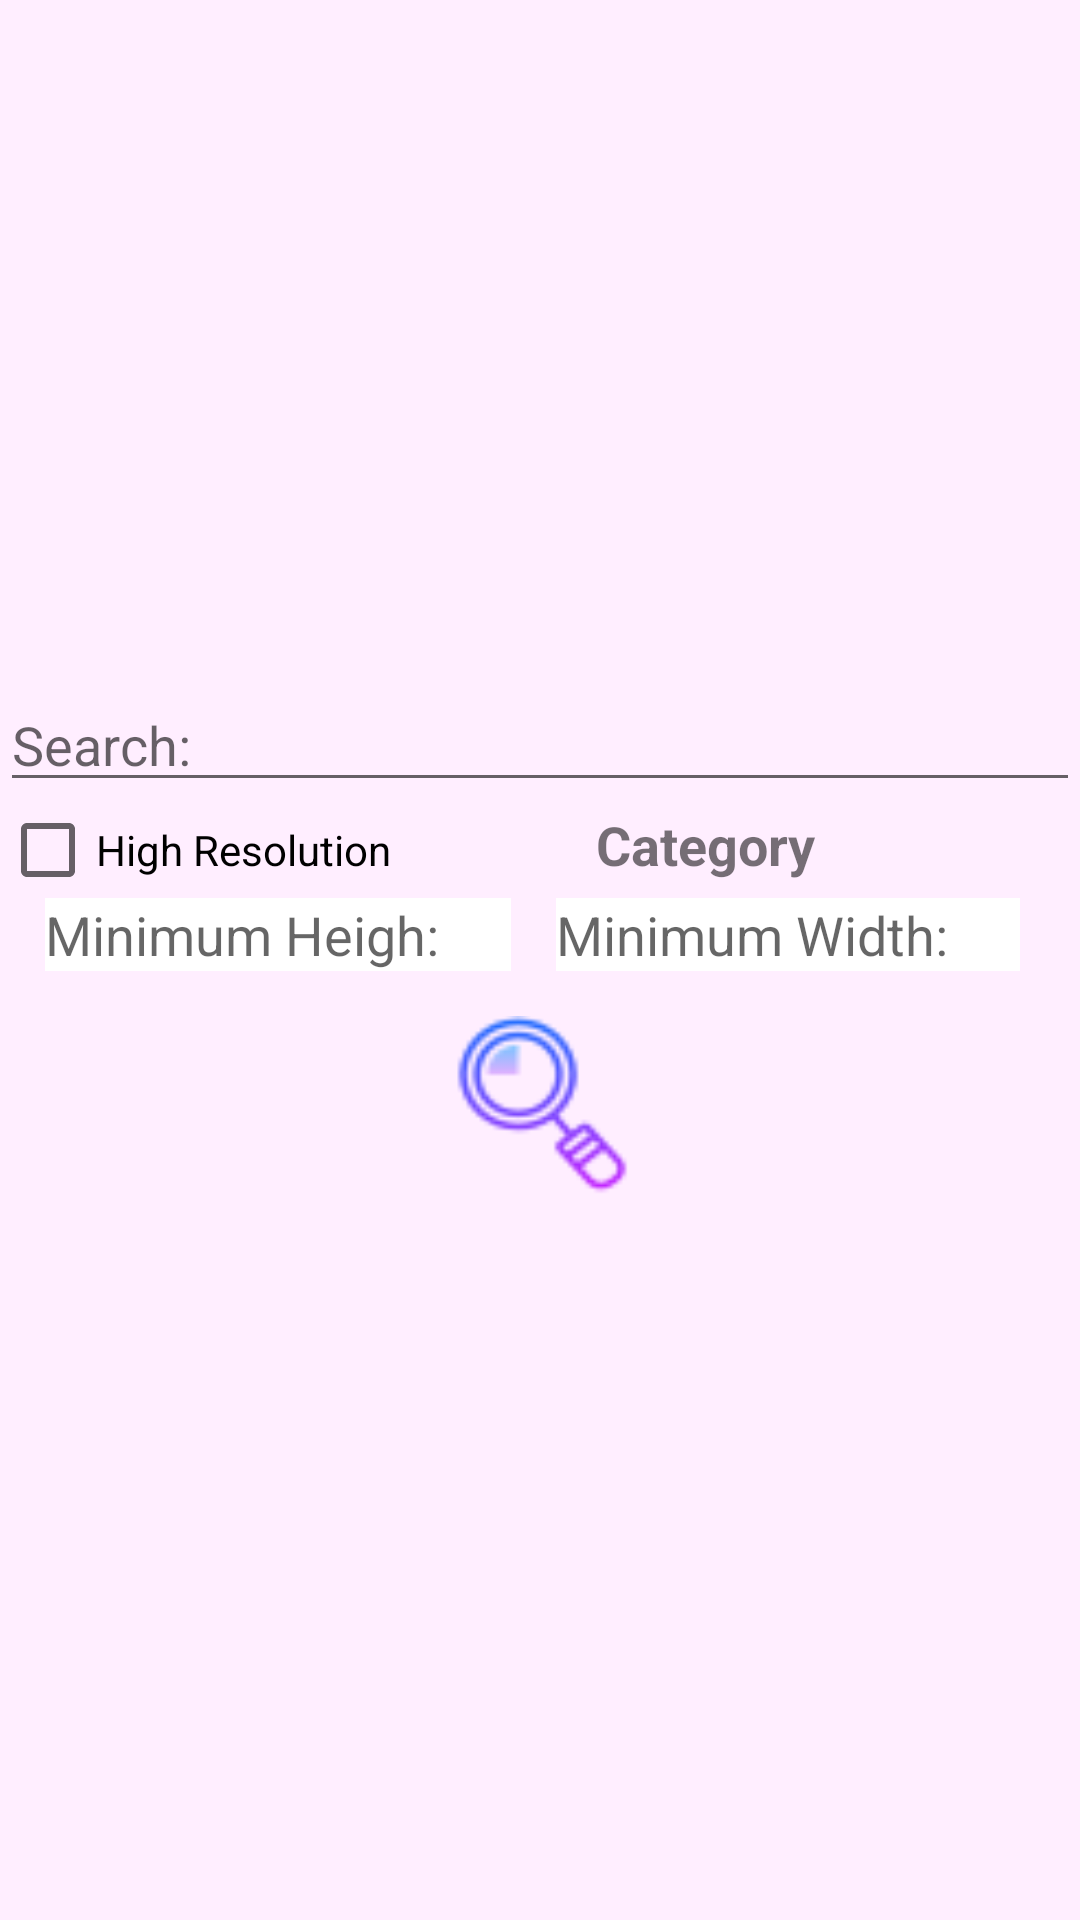

Named icons in this screenshot (1080 x 1920) and their bounding boxes, (x1=x1, y1=y1, x2=x2, y2=y2):
search: (x1=457, y1=1016, x2=627, y2=1192)
